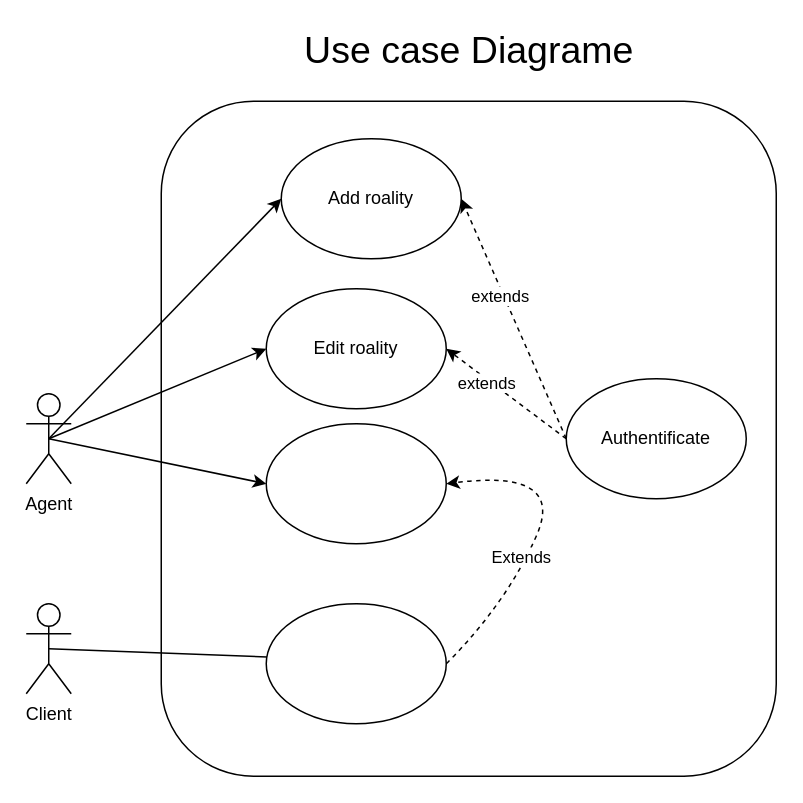
The diagram is 803 pixels wide and 803 high, and some of its shapes have lost their labels. Here are the shapes that lost their labels. From the top down, the centre of each, then its label:
At pixel 355 483: "Show roality".
At pixel 355 663: "Book for roality".
